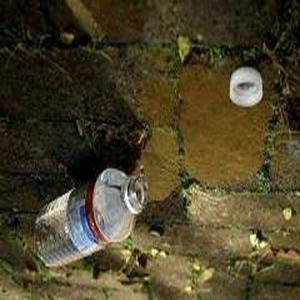Plastic: (28, 168, 147, 266)
